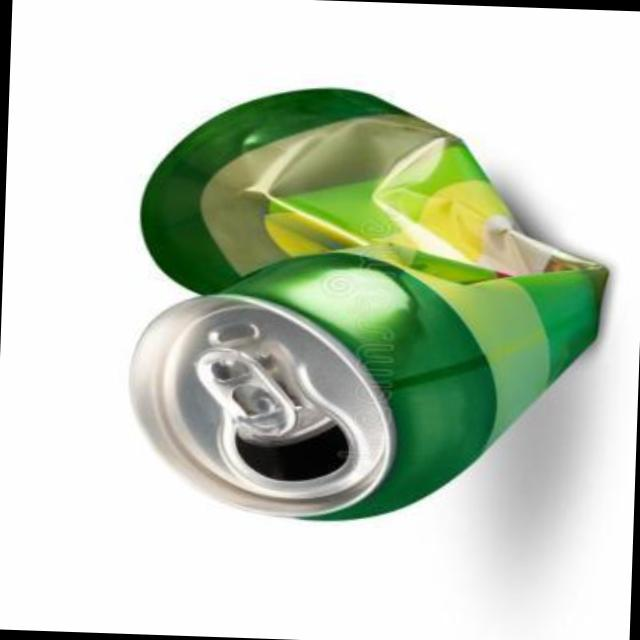metal: (126, 91, 602, 522)
